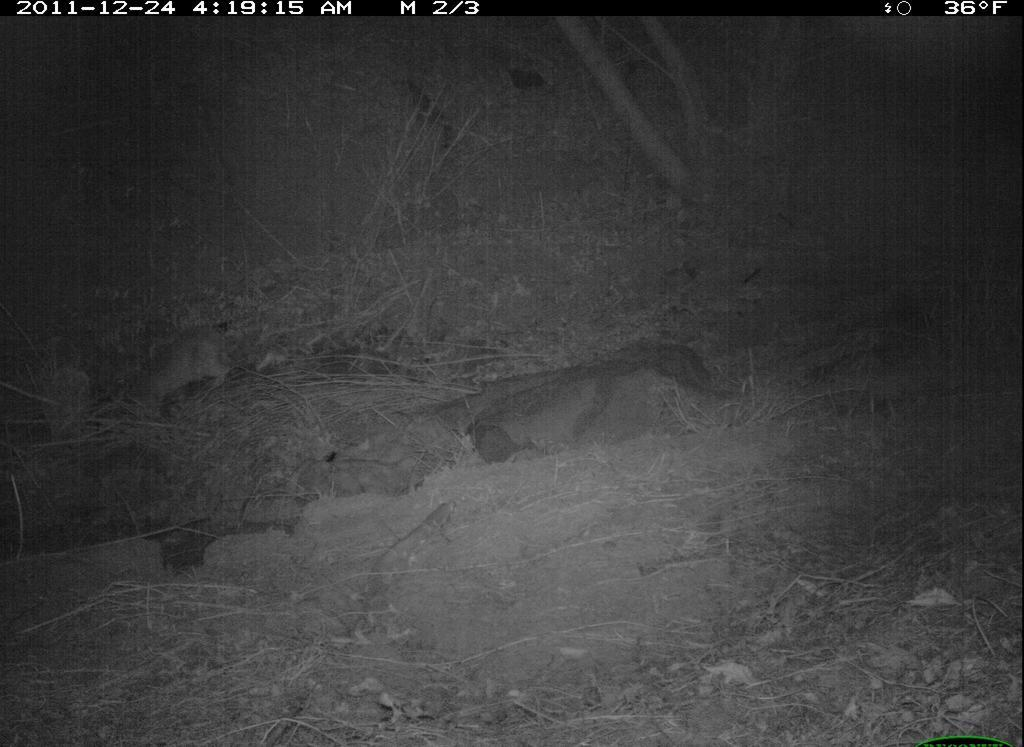bobcat: (124, 316, 236, 421)
